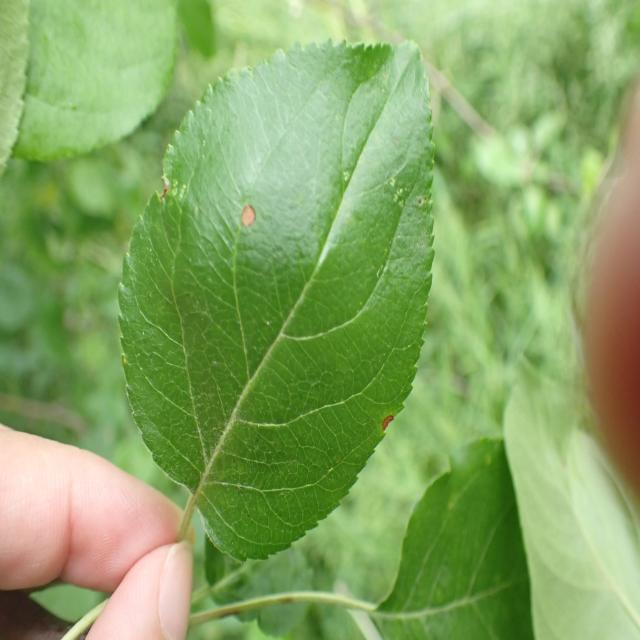Black Rot: (375, 368, 400, 462), (230, 183, 270, 241)
